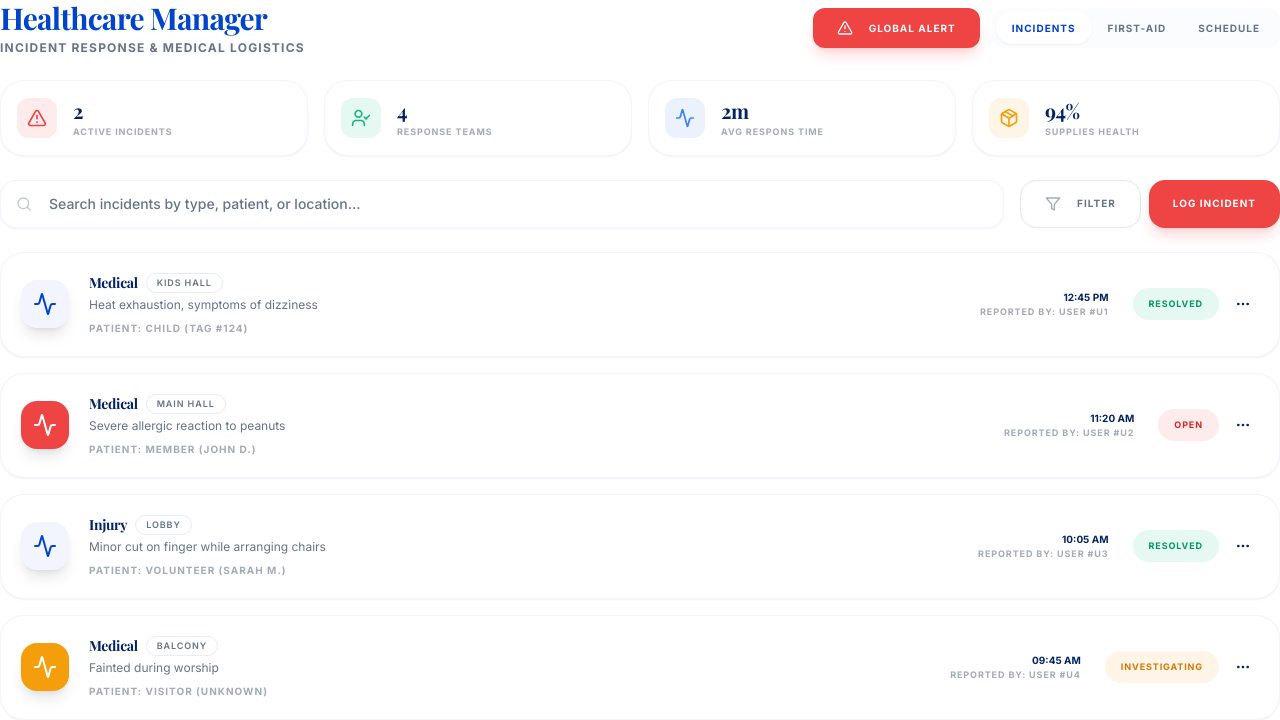
Test: Event Modules Permission Guarding › allows authorized users to log healthcare incidents
The image size is (1280, 720).
Click the button "Log Incident". click: (1214, 204)
box: x1=1149 y1=180 x2=1279 y2=228
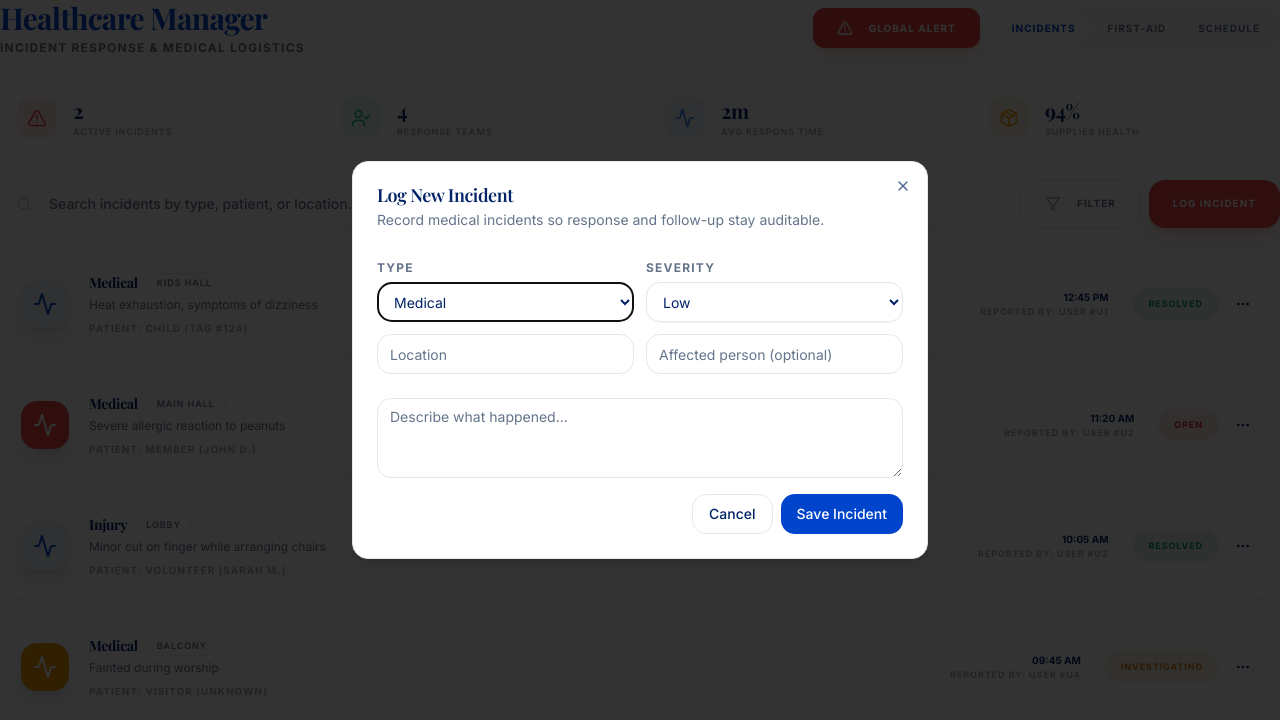
Type "Prayer Hall" into the field named "incident location". click: (506, 354)
box: x1=377 y1=334 x2=634 y2=374
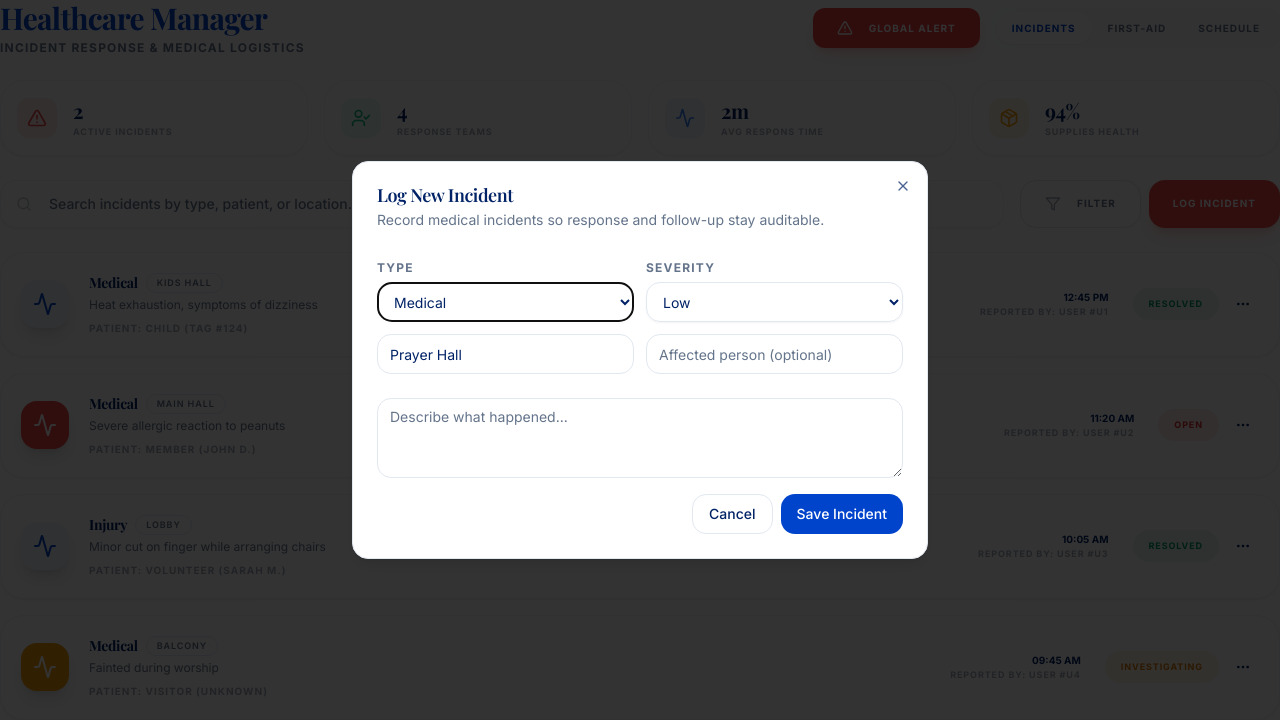
Type "Member reported chest discomfort." into the text box named "incident description". click: (640, 438)
box: x1=377 y1=398 x2=903 y2=478
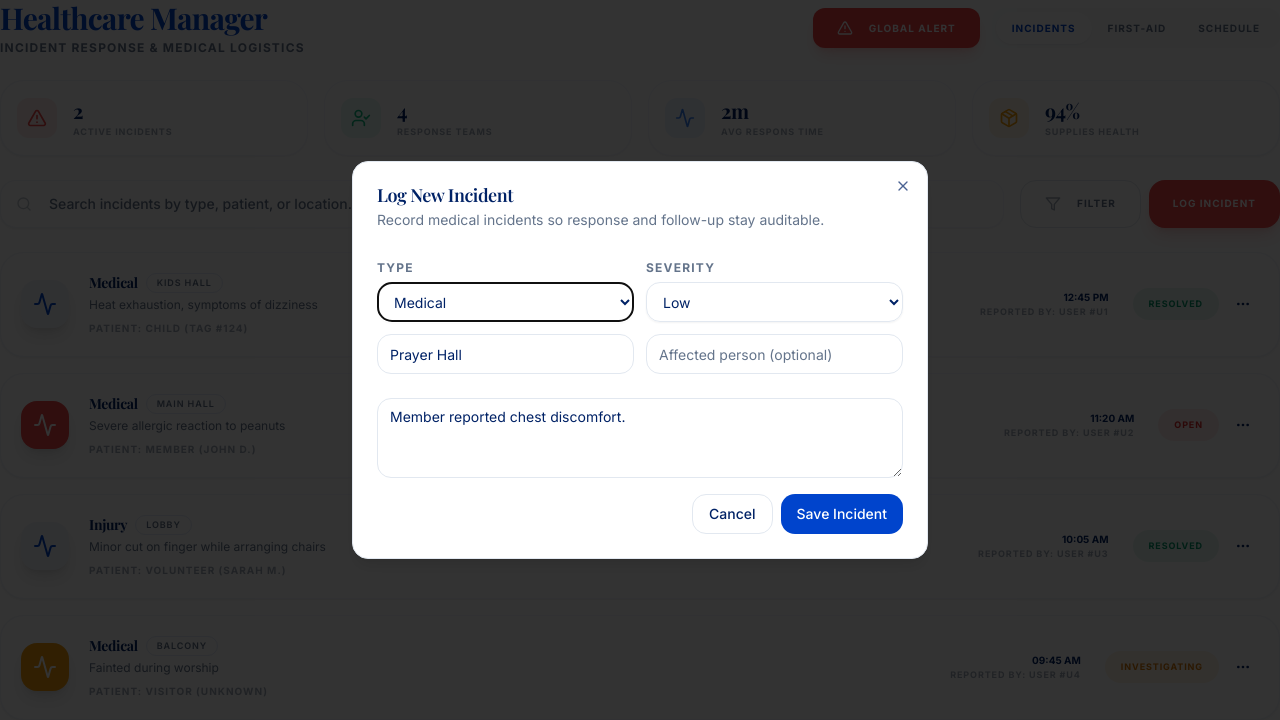
Click the button "Save Incident". click: (842, 514)
box: x1=781 y1=494 x2=903 y2=534
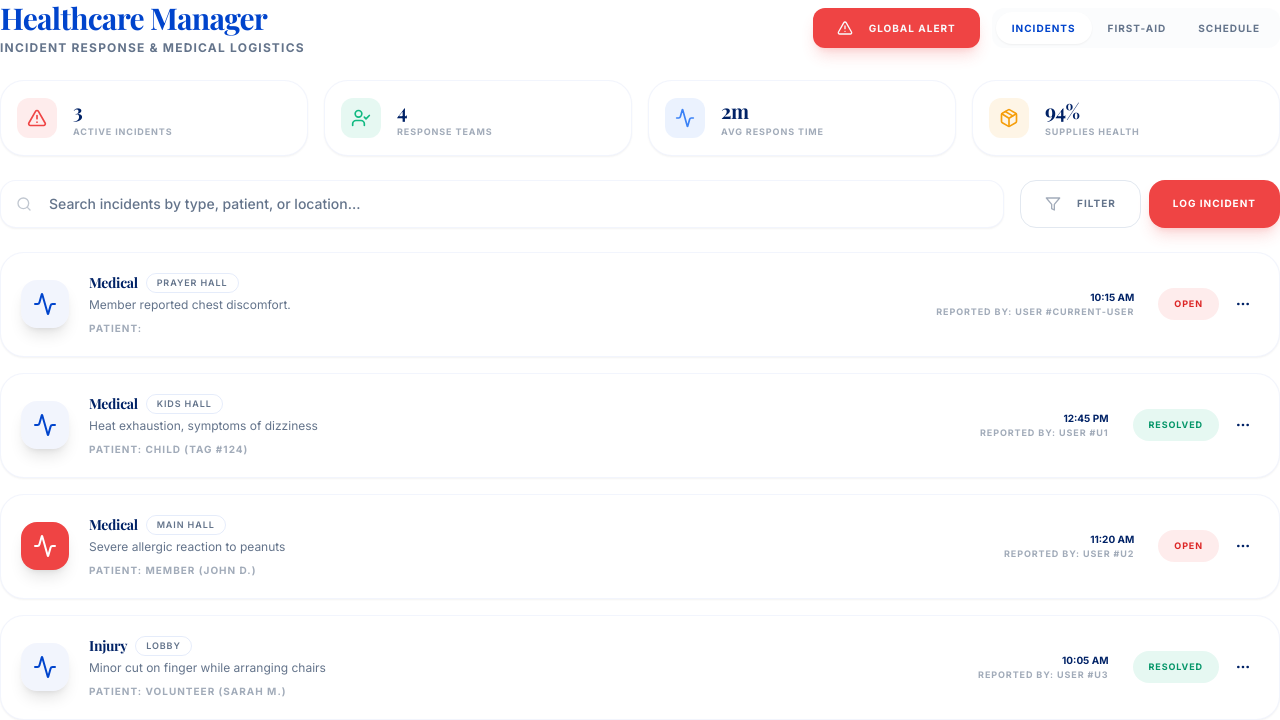
Result: the text "Member reported chest discomfort." is shown at x1=89 y1=296 x2=291 y2=312
